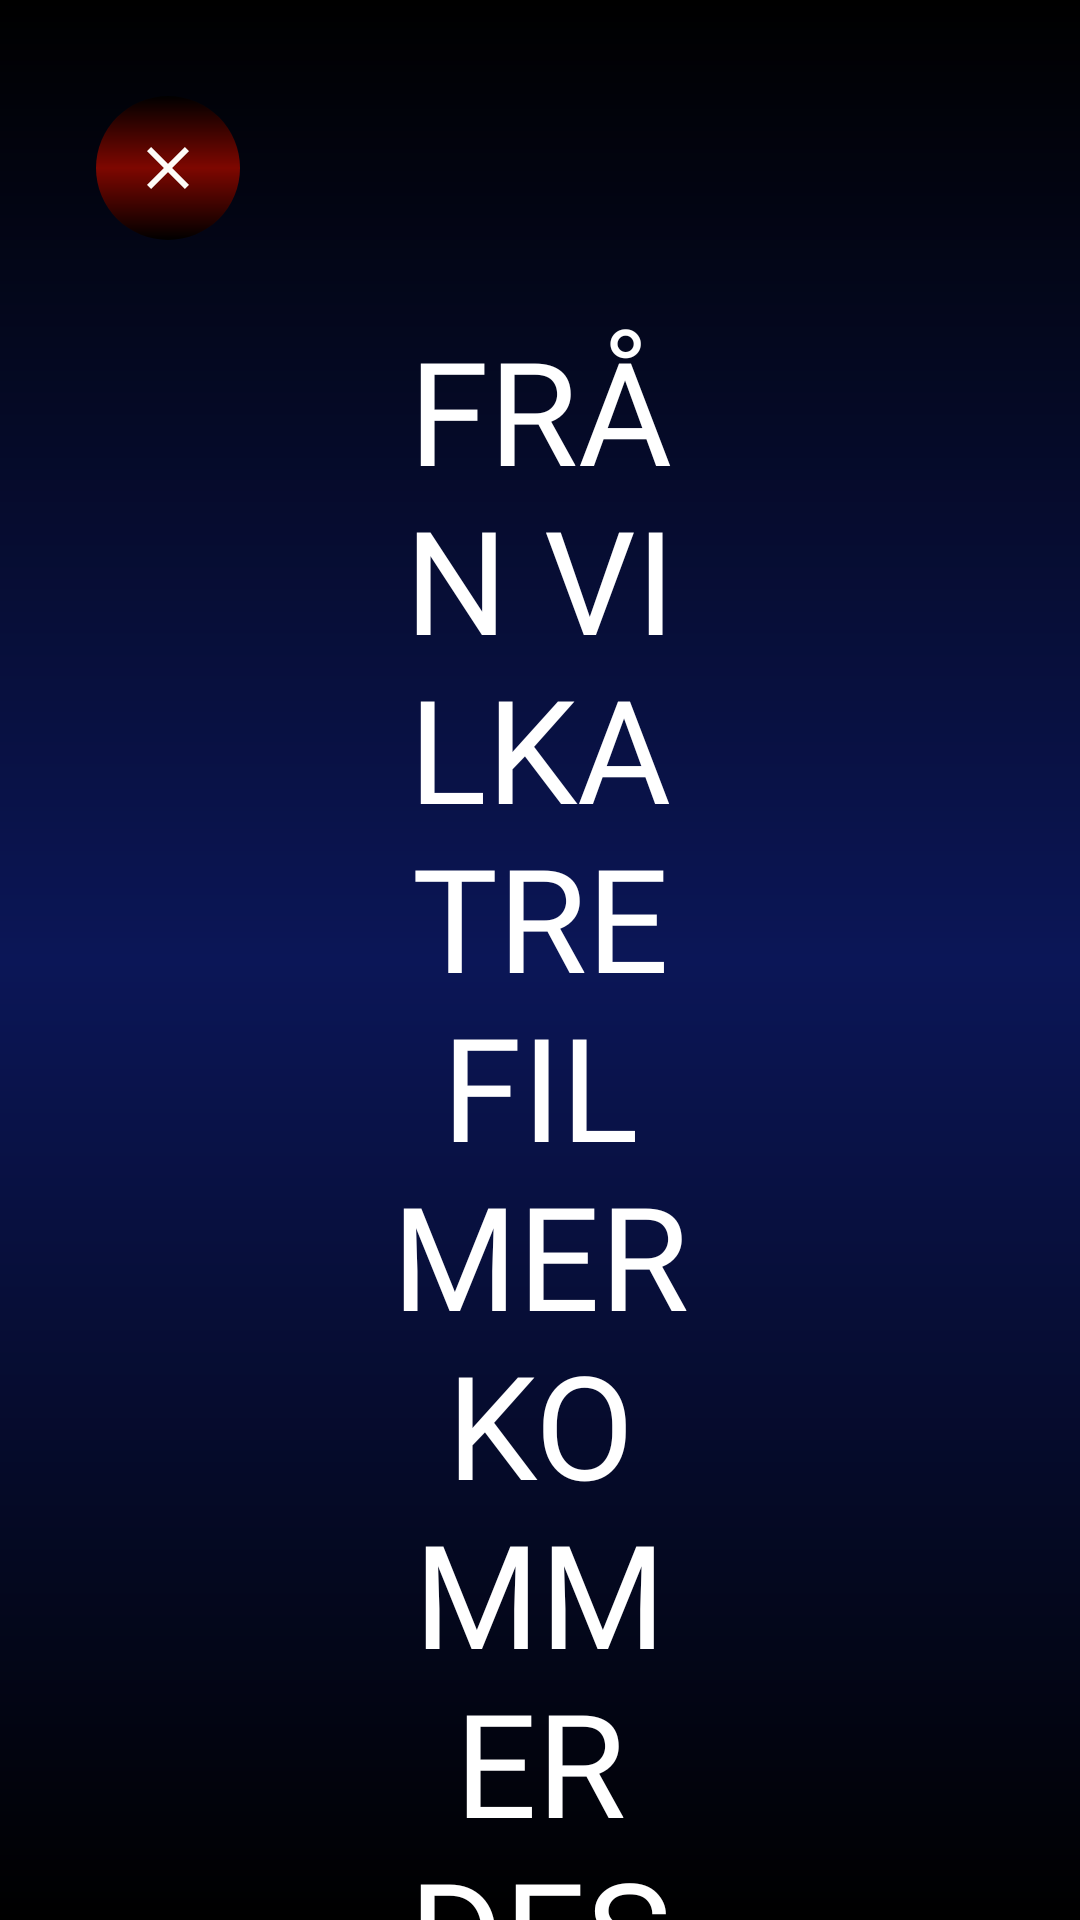

Locate icon controls on the screen. Image size 1080px×1920px, boxes as bbox(x1, y1, x2, y2).
close: bbox(96, 111, 240, 225)
